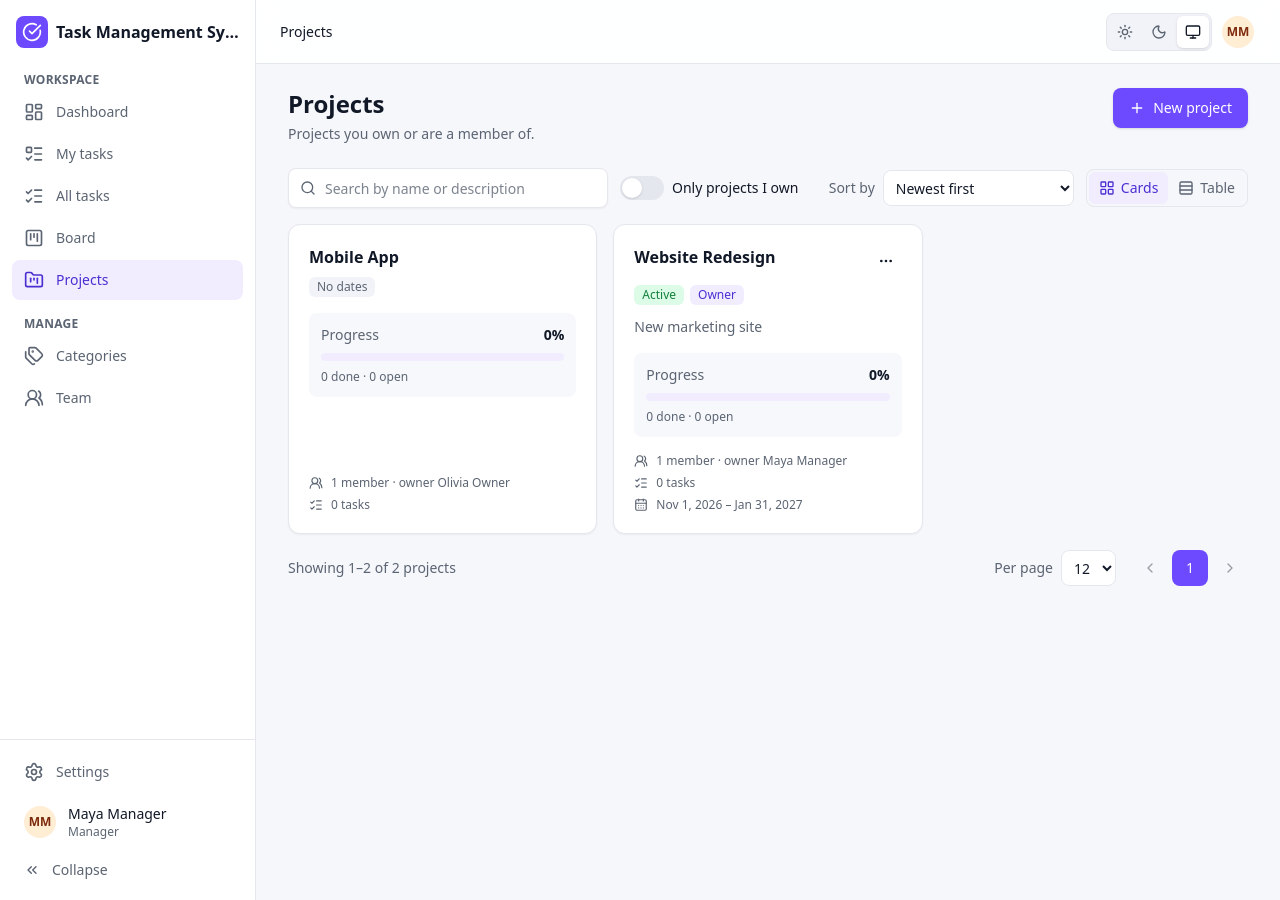
Test: Deleting from the list › never shows the deleted project again, even while the list is still refetching
Expected: the link "Website Redesign" is shown, [634,245,776,269]
Click the button named "Actions for Website Redesign": click(886, 261) [870,245,902,277]
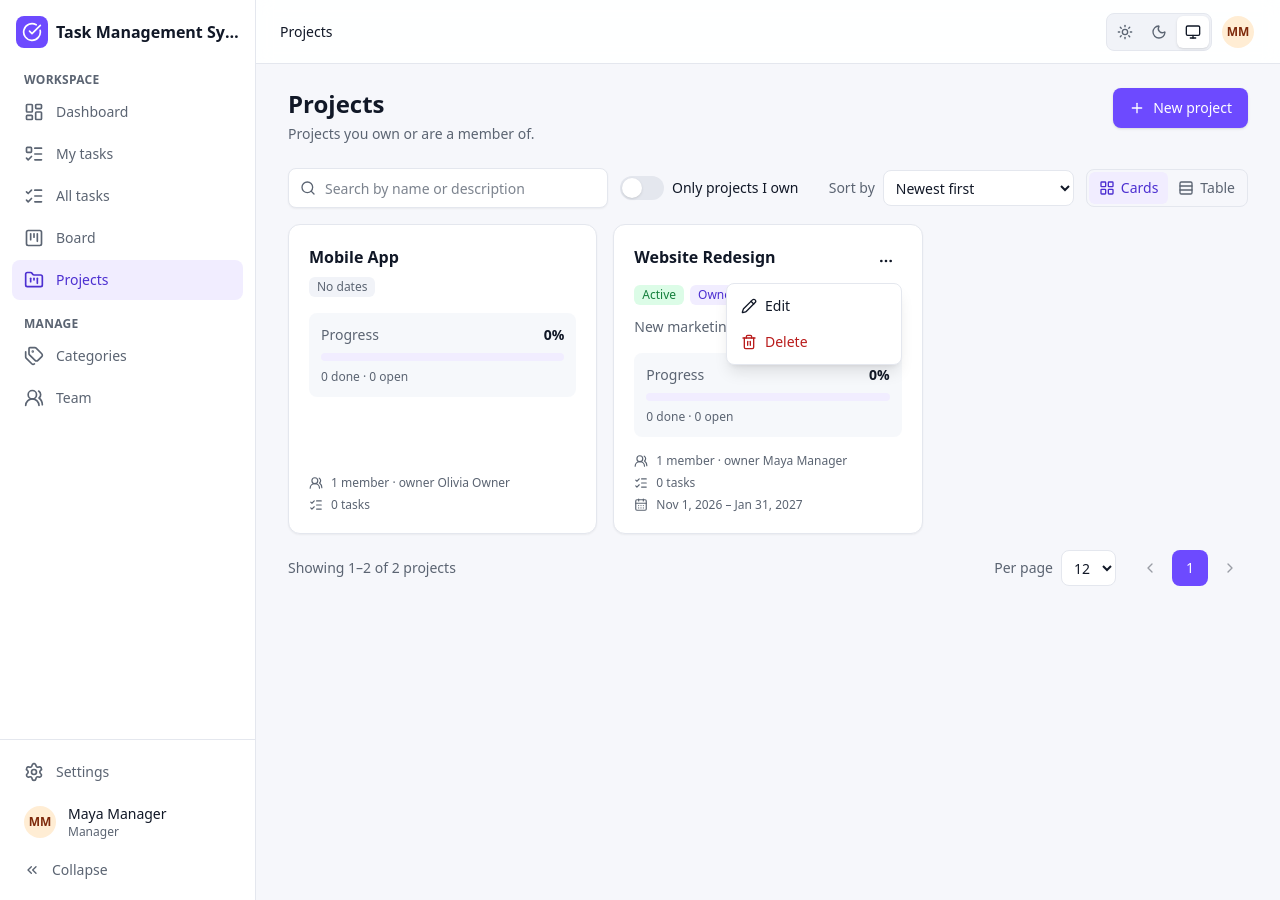
Click the menu item "Delete": click(774, 342) [741,332,808,351]
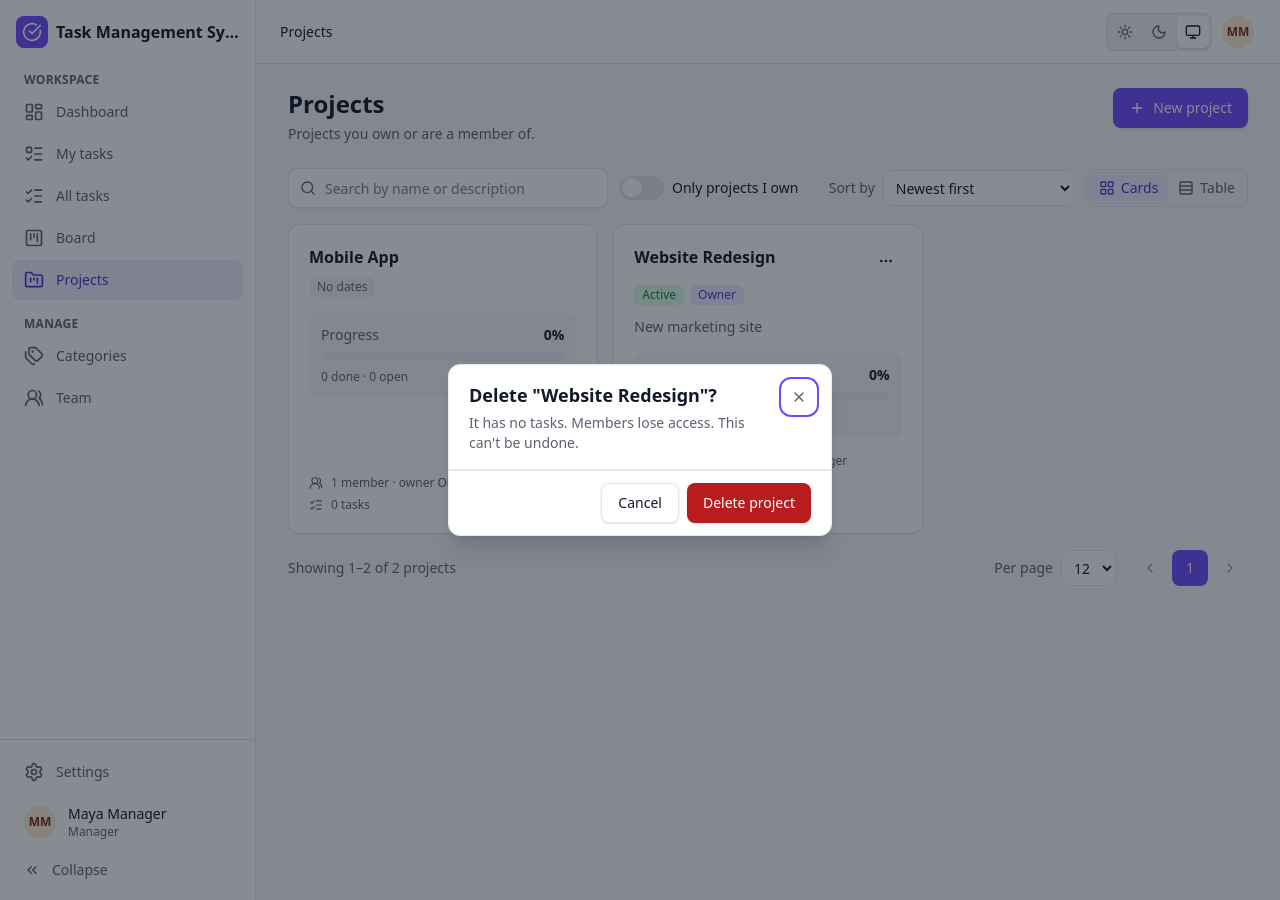
Click the button "Delete project": click(749, 503) [687,483,811,523]
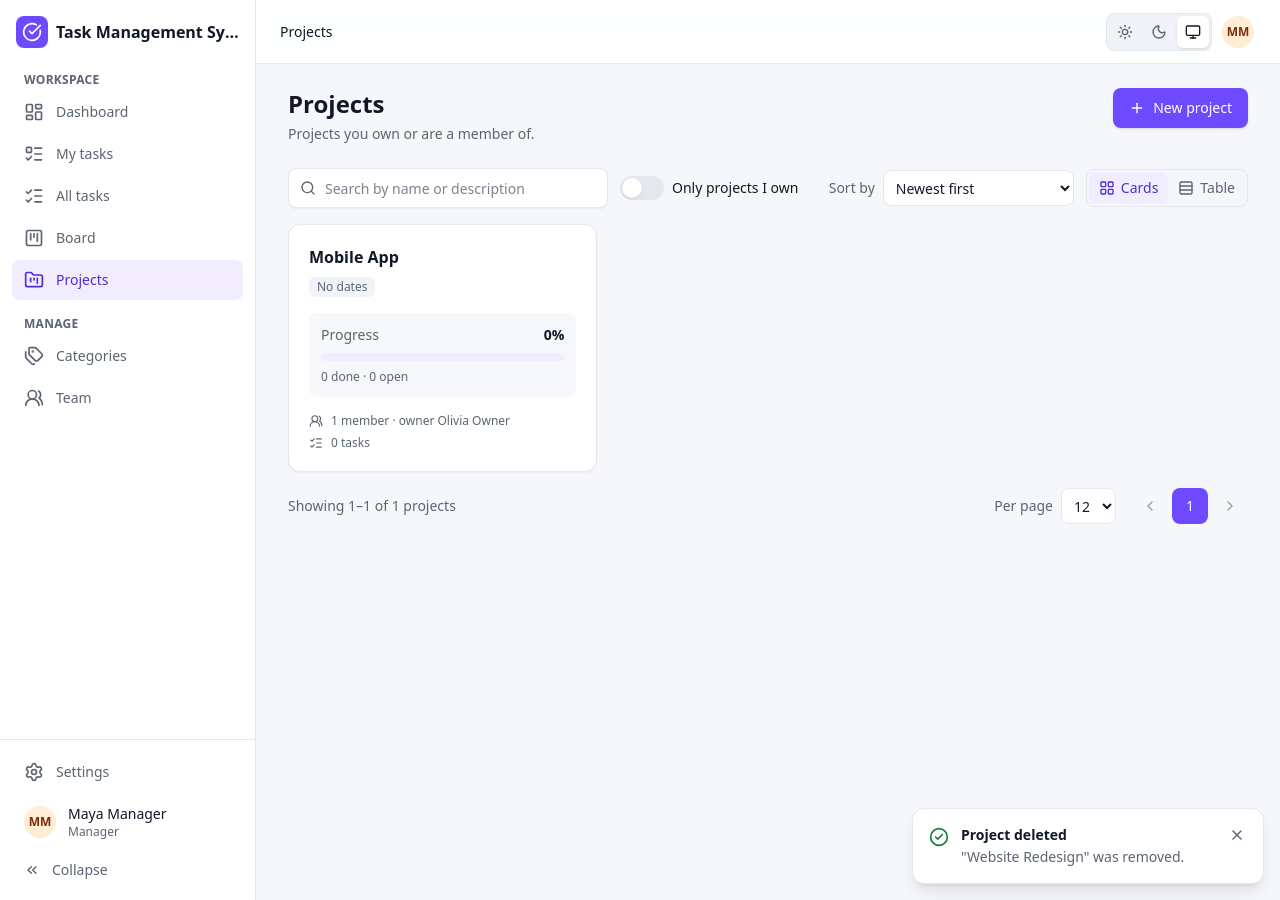
Expected: the text "Showing 1–1 of 1 projects" is shown, [288,496,456,516]
